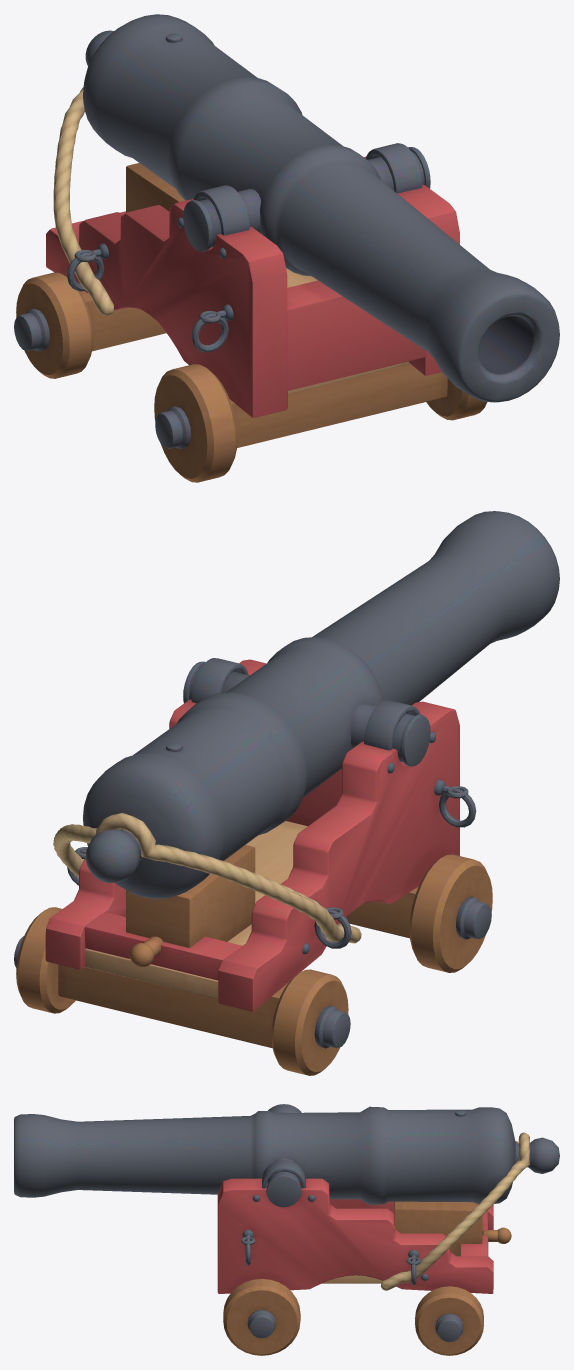
File: canon_barco.glb
The picture shows the model from 3 angles, top to bottom: view 1: azimuth 30°, elevation 25°; view 2: azimuth 150°, elevation 25°; view 3: azimuth 270°, elevation 25°; orthographic projection. The views are drawn at different scales.
Visible parts, largest first — view 1: ship-cannon_body; view 2: ship-cannon_body; view 3: ship-cannon_body.
Part boxes in pixels (left/top/right/bottom): ship-cannon_body: left=14, top=14, right=559, bottom=482; ship-cannon_body: left=14, top=511, right=559, bottom=1075; ship-cannon_body: left=14, top=1104, right=559, bottom=1355.
Bounding box in the file's own units: 0.8901 × 0.798 × 1.98.
1 material, 1 textured.
